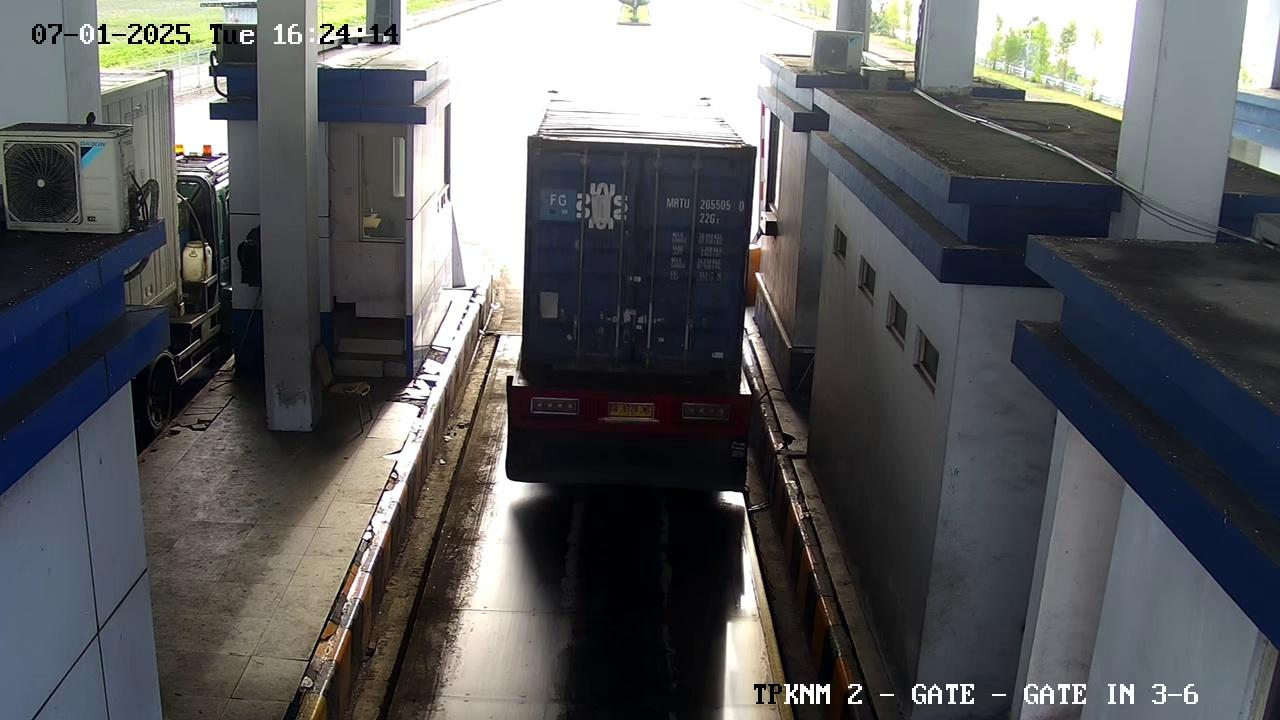Container_ID: (659, 193, 752, 232)
